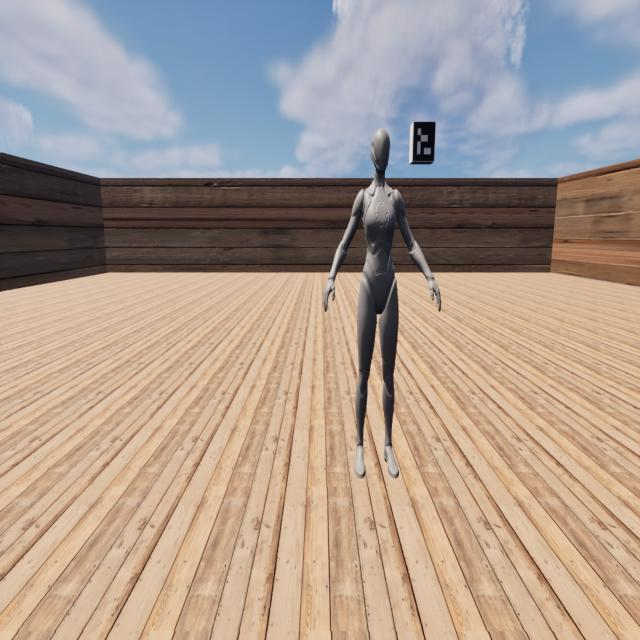aruco: (413, 122, 436, 161)
hip: (360, 278, 397, 292)
